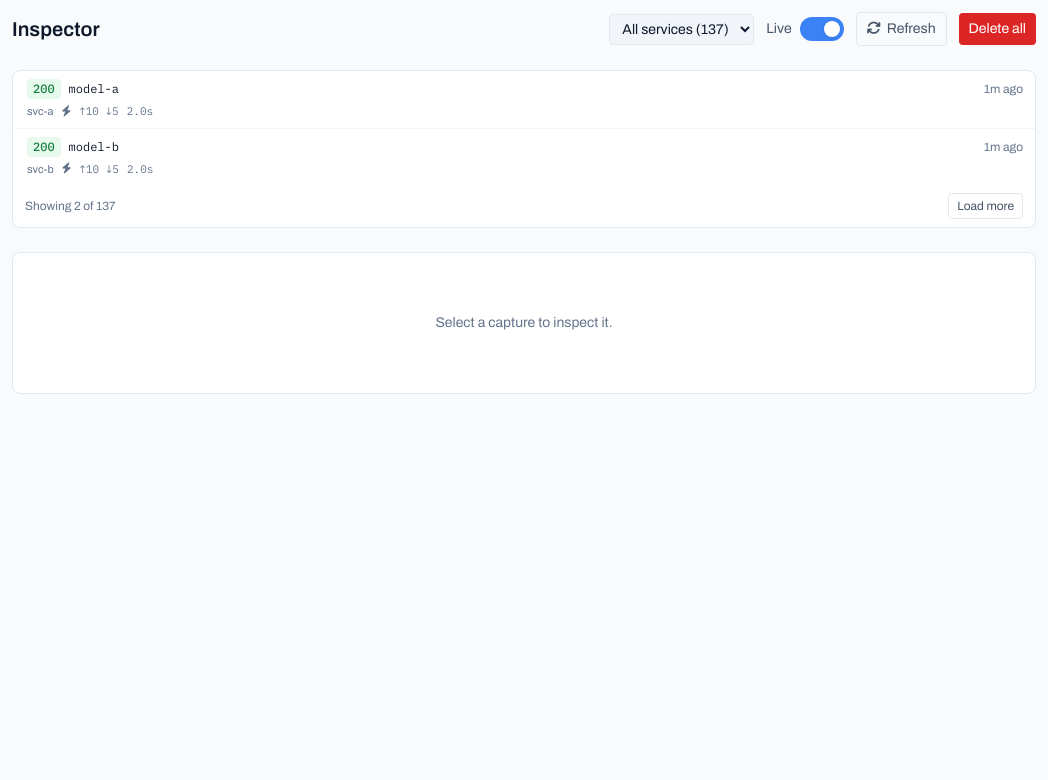
Test case: InspectorPage detail behaviour › re-selecting a capture serves the cache without refetching
The width and height of the screenshot is (1048, 780).
What coordinates should you click on to do the following:
click the text "model-a"
I would click on:
 (94, 89)
Its box is [69,81,119,97].
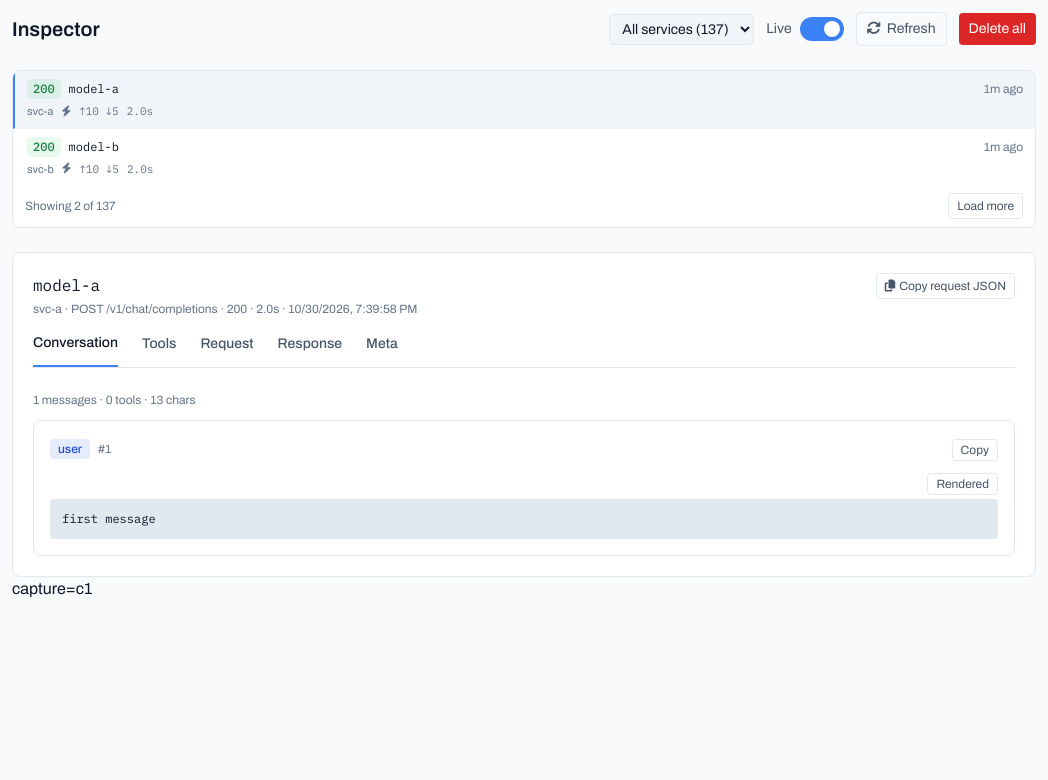
Expected: the text "first message" is shown, [50,499,998,539]
What coordinates should you click on to do the following:
click the text "model-b"
I would click on:
 (94, 146)
Its box is [69,138,119,154].
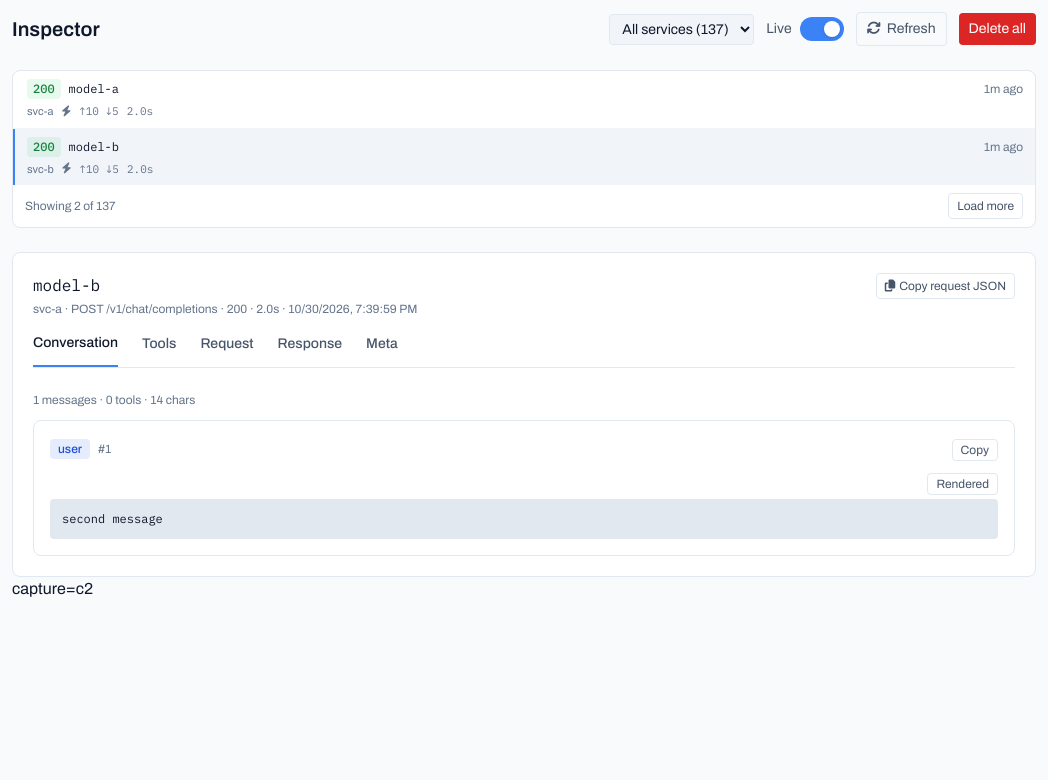
Expected: the text "second message" is shown, [50,499,998,539]
What coordinates should you click on to do the following:
click the text "model-a"
I would click on:
 (94, 89)
Its box is [69,81,119,97].
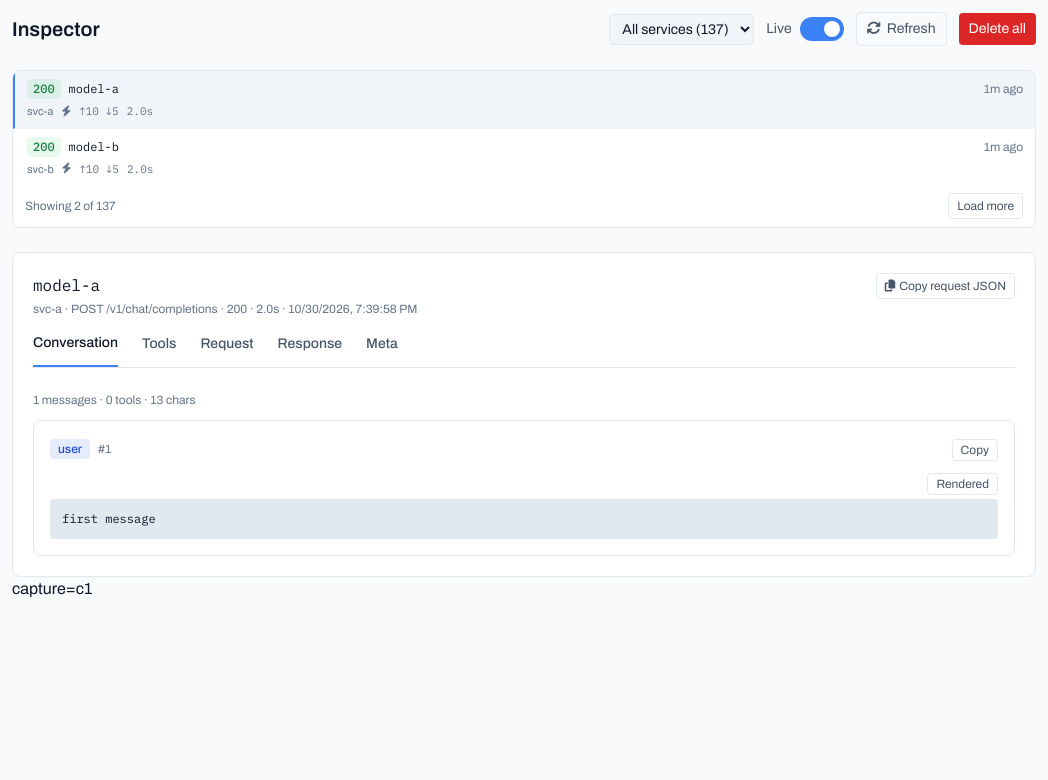
Expected: the text "first message" is shown, [50,499,998,539]
